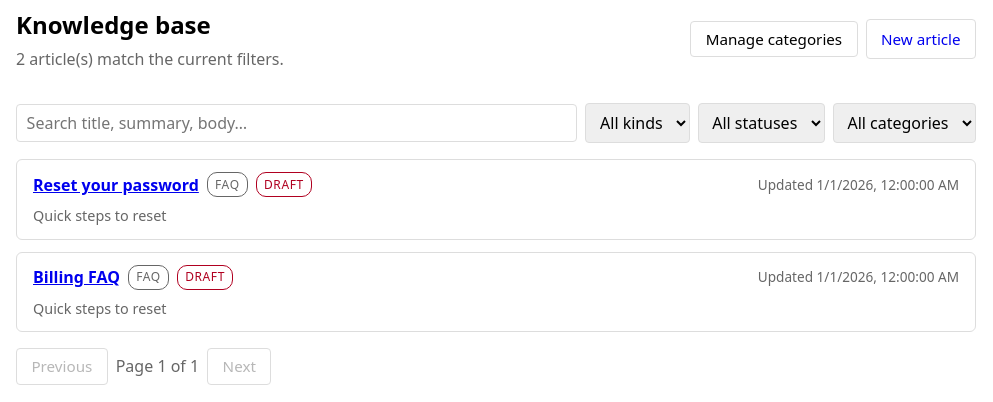
Test: KnowledgeBaseListPage › submits a search query
Expected: the text "Reset your password" is shown, 33,174 -> 199,196
Type "billing" into the search field named "Search articles" at (297, 123), box 16,104 -> 577,142
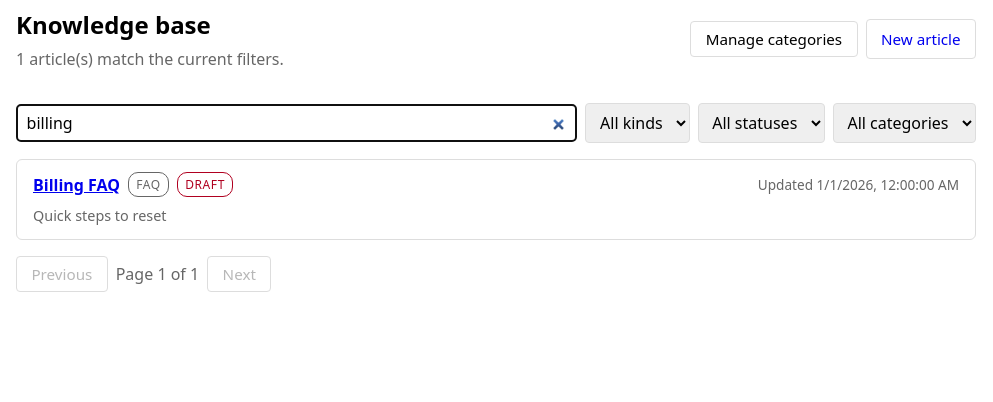
Expected: the text "Billing FAQ" is shown, 33,174 -> 120,196
Result: the link "Reset your password" is gone
